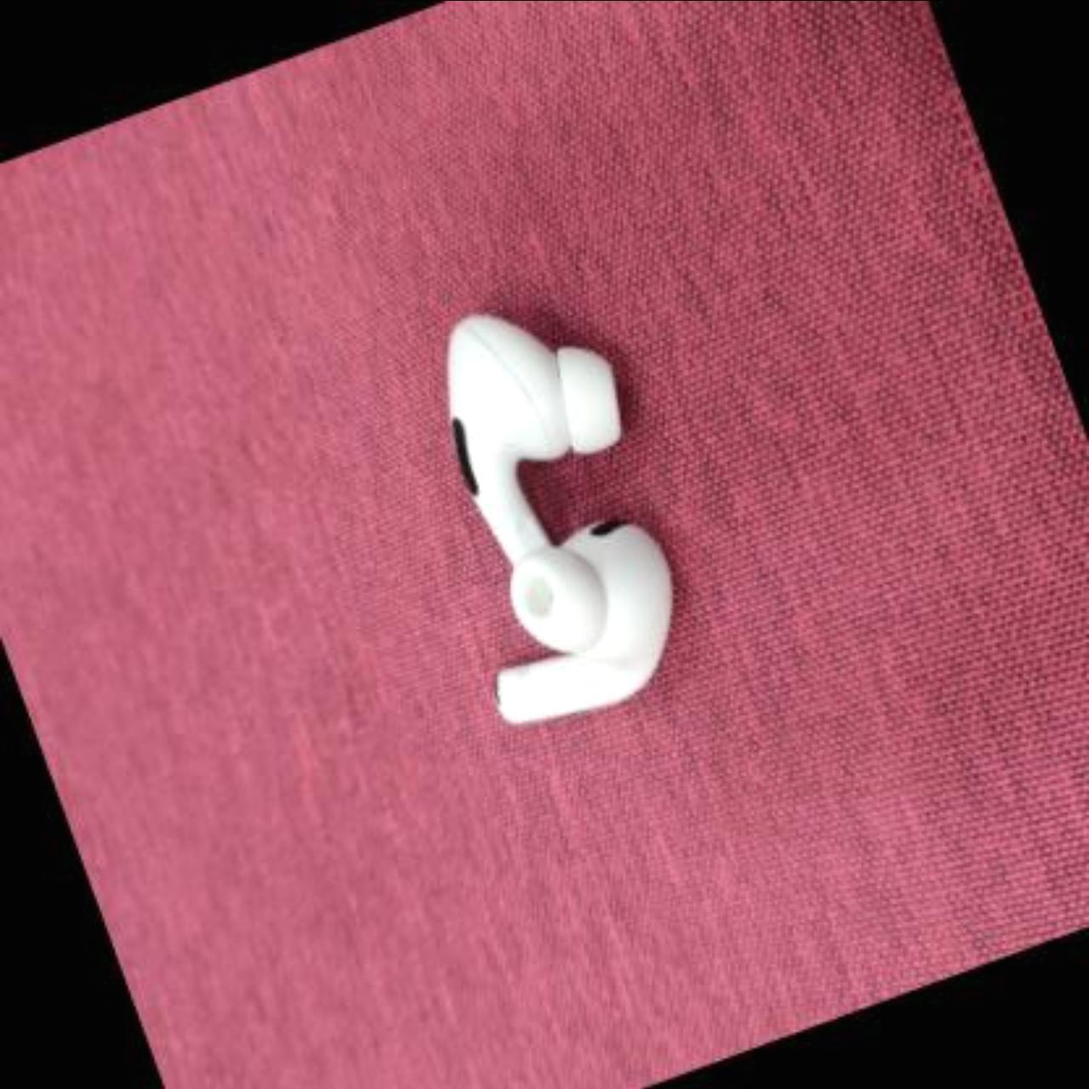Airpods_Units: (337, 439, 727, 802), (374, 238, 691, 643)
